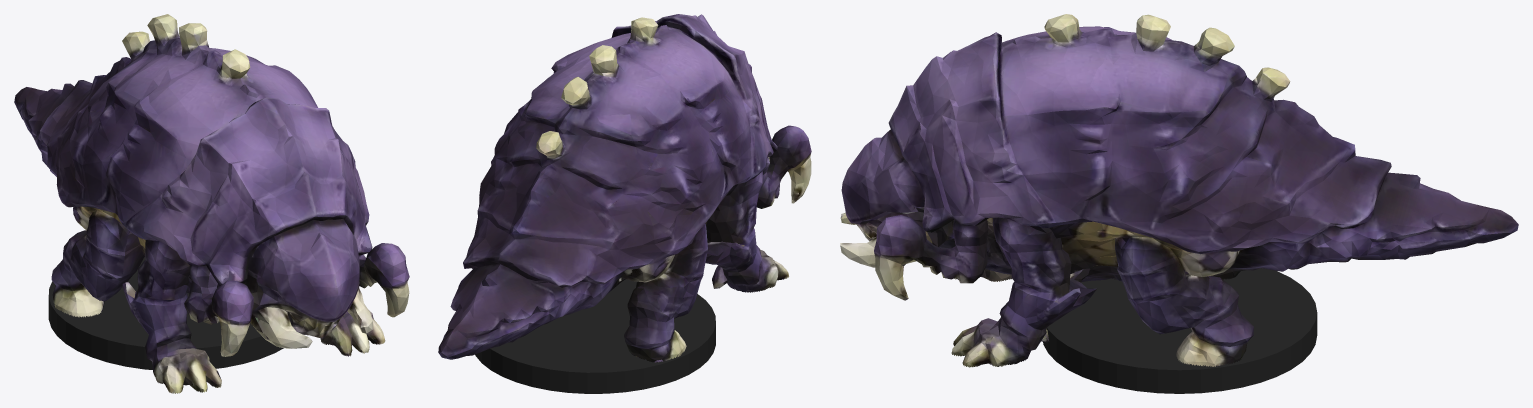
Rendered from roachling.glb.
3 renders of one model, left to right at view 1: azimuth 30°, elevation 25°; view 2: azimuth 150°, elevation 25°; view 3: azimuth 270°, elevation 25°, orthographic. The views are drawn at different scales.
Visible parts, largest first — view 1: figure, base; view 2: figure, base; view 3: figure, base.
Part boxes in pixels (box(x1,y1,x2,y2)): figure: box(14, 14, 409, 393); base: box(48, 257, 283, 369); figure: box(438, 14, 811, 362); base: box(475, 279, 715, 393); figure: box(840, 14, 1518, 367); base: box(1043, 268, 1317, 393).
Bounding box in the file's own units: 1.27 × 1.62 × 3.1.
Materials: 2 (1 with a texture image).
